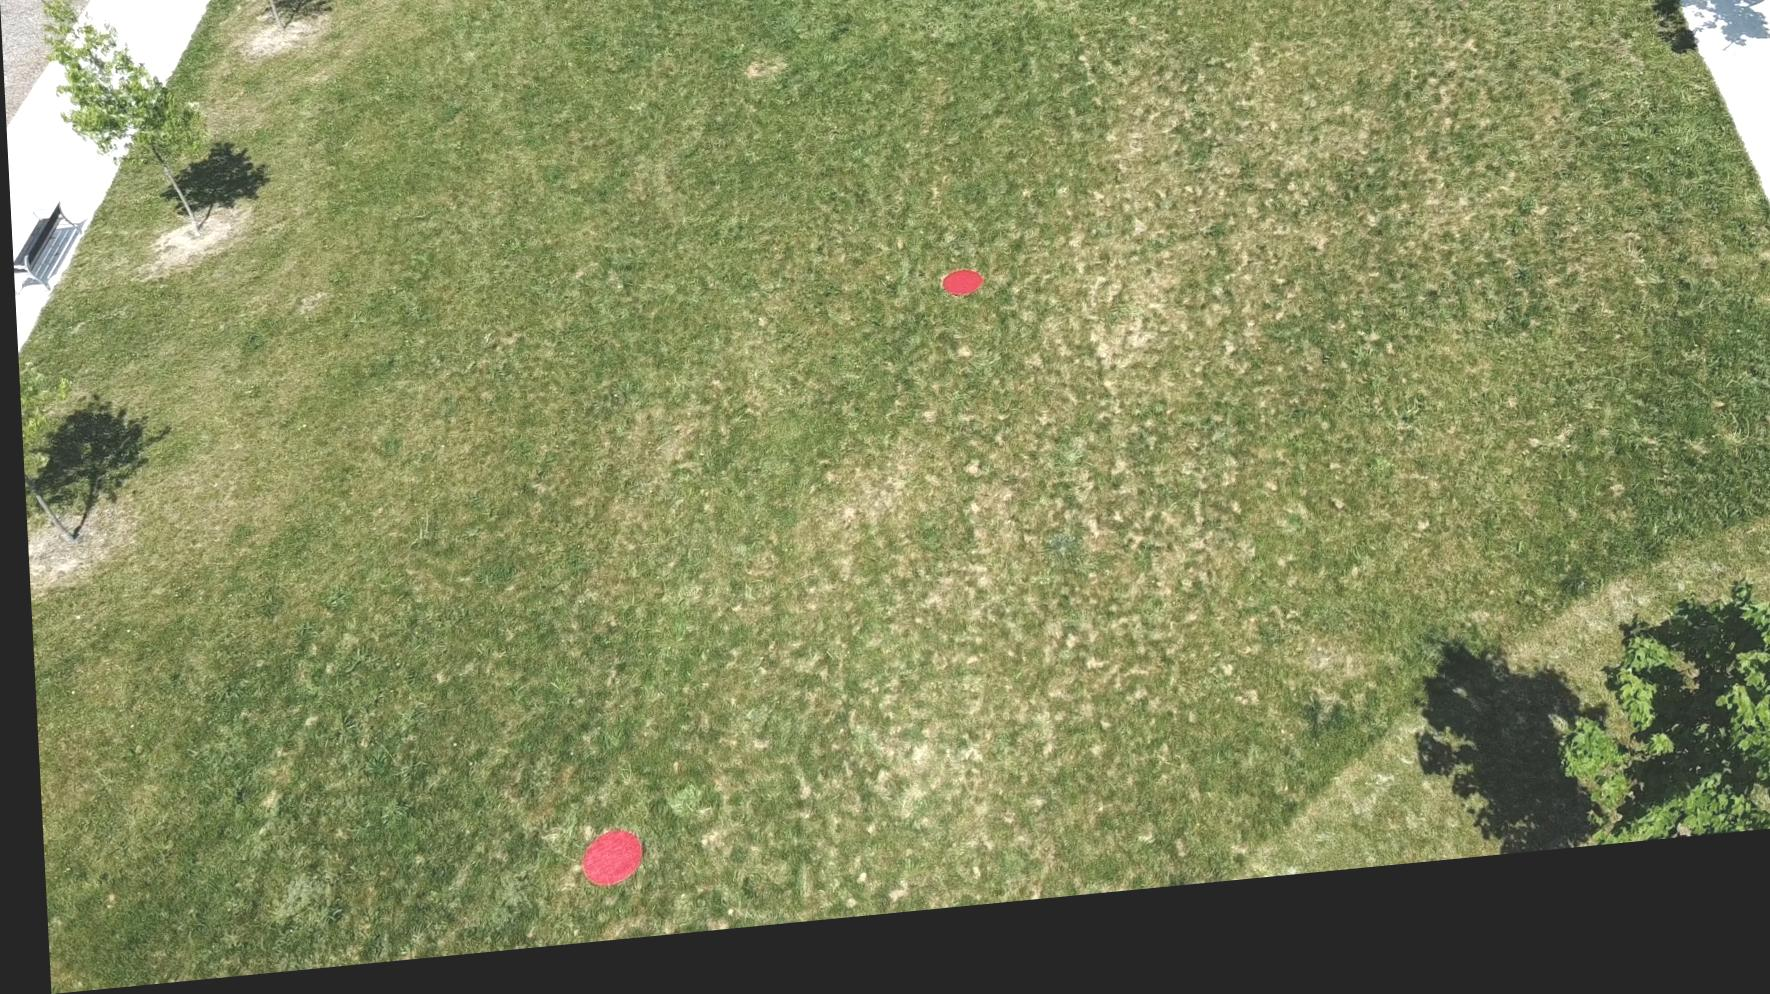Red: (564, 836, 638, 902), (936, 283, 982, 321), (765, 0, 806, 9)
